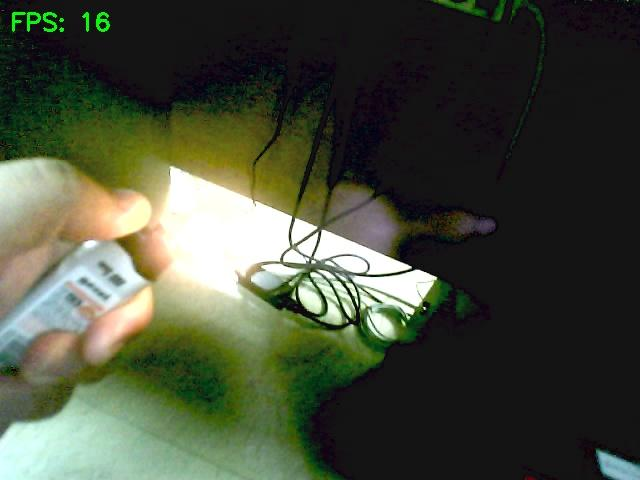fire: (163, 196, 225, 242)
smoke: (162, 195, 232, 244)
